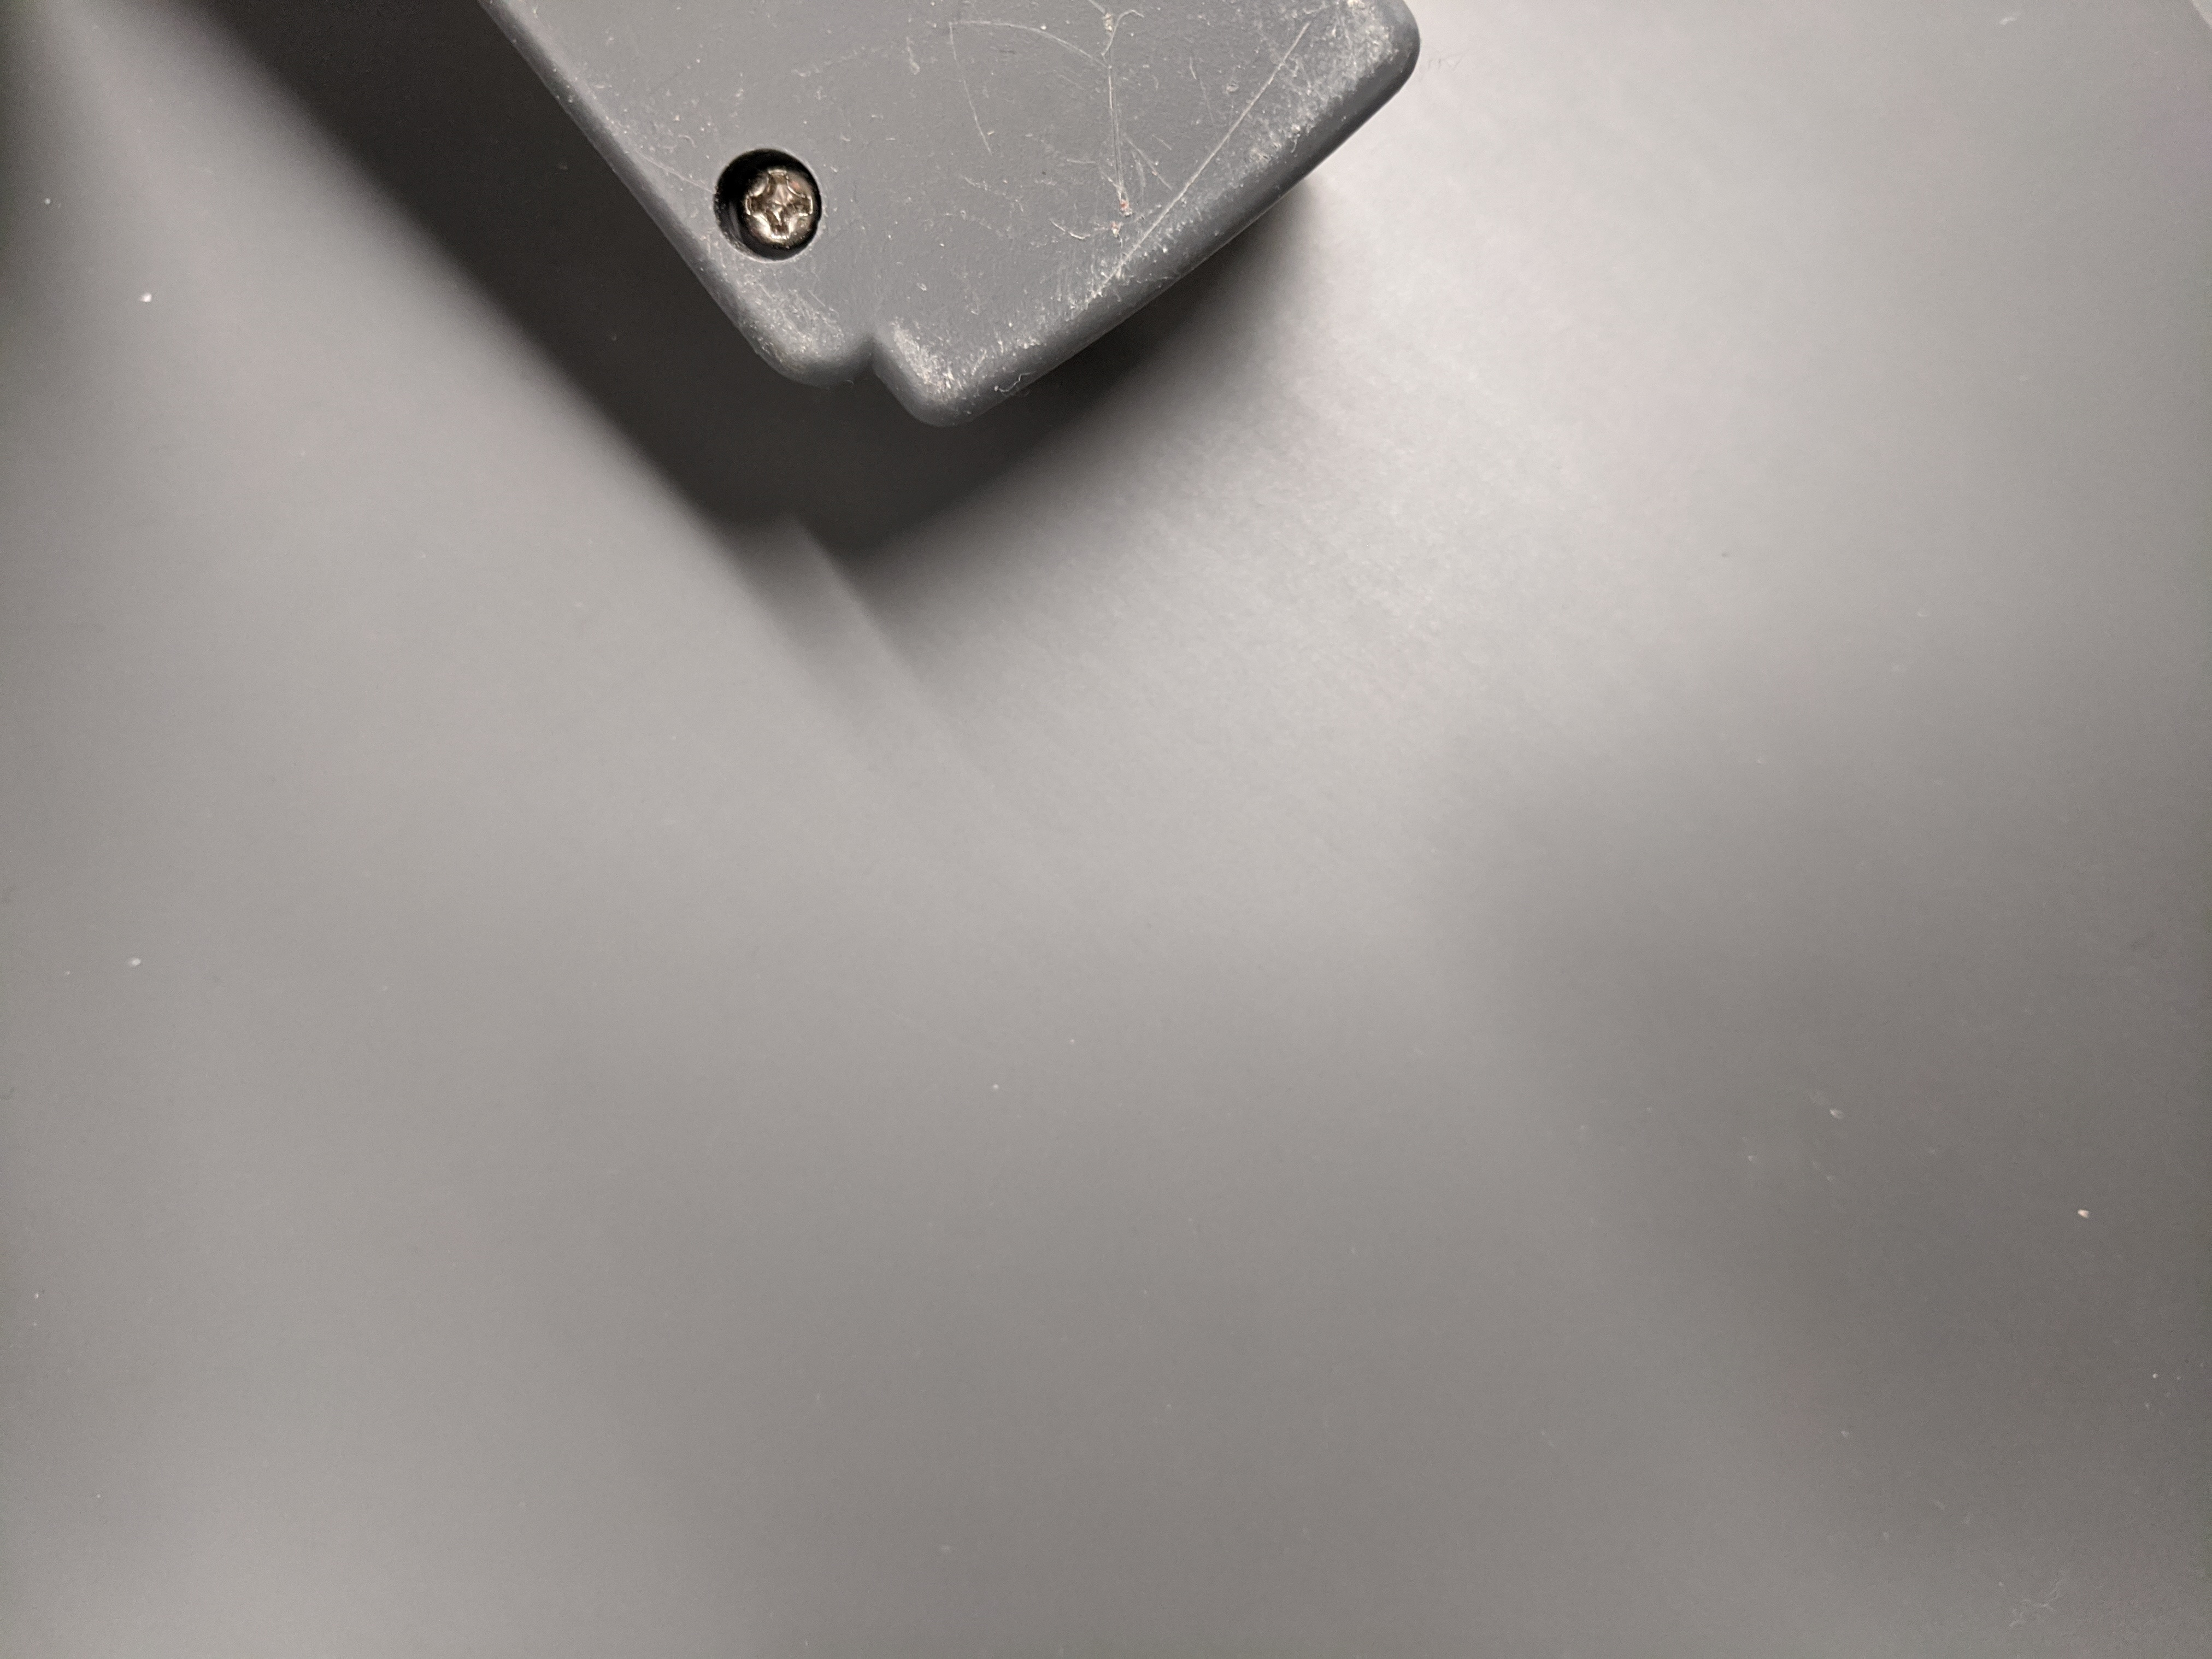cross_recessed_screw: (691, 143, 846, 265)
